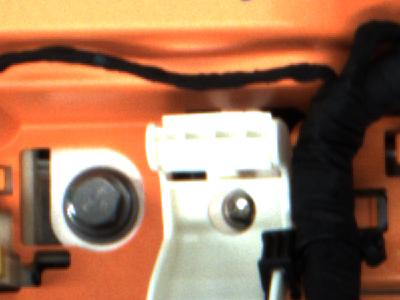nut_b: (54, 165, 146, 247)
